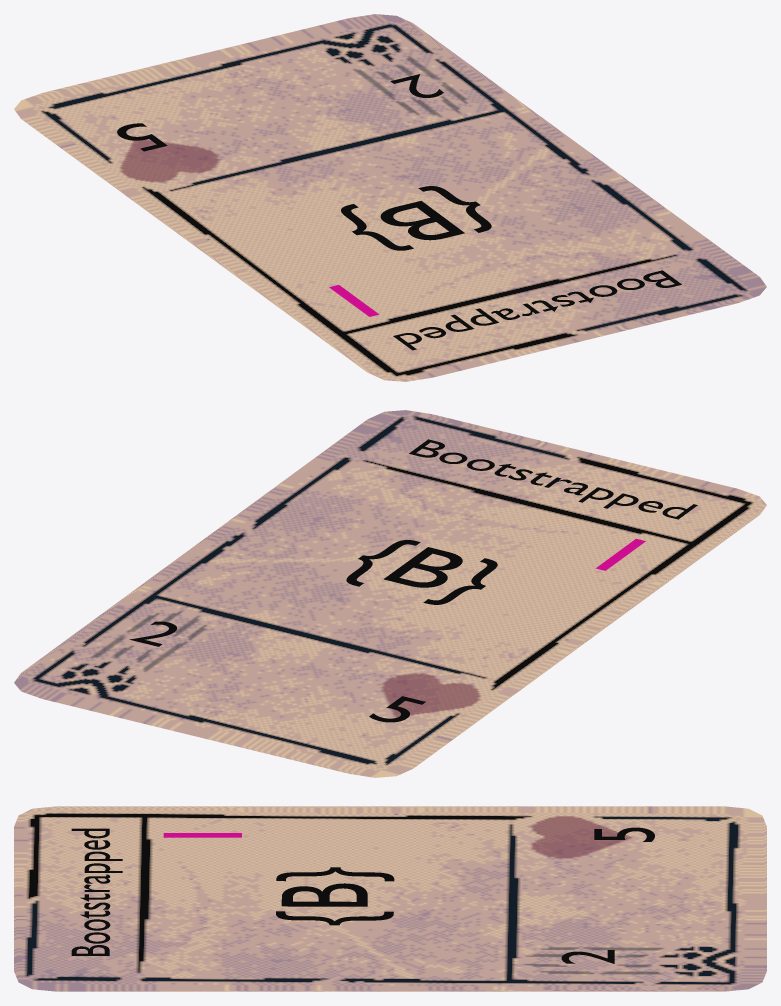
File: BootStrapped.glb
3 renders of one model, top to bottom at view 1: azimuth 30°, elevation 25°; view 2: azimuth 150°, elevation 25°; view 3: azimuth 270°, elevation 25°, orthographic. The views are drawn at different scales.
Visible parts, largest first — view 1: Bootstrapped; view 2: Bootstrapped; view 3: Bootstrapped.
Boxes of the visible parts, x1=… form: Bootstrapped: x1=14, y1=14, x2=766, y2=381; Bootstrapped: x1=14, y1=410, x2=766, y2=777; Bootstrapped: x1=14, y1=806, x2=766, y2=991.
Size of what is drawn, in the model's own units: 44.93 by 0.4028 by 77.22.
5 materials, 1 textured.
